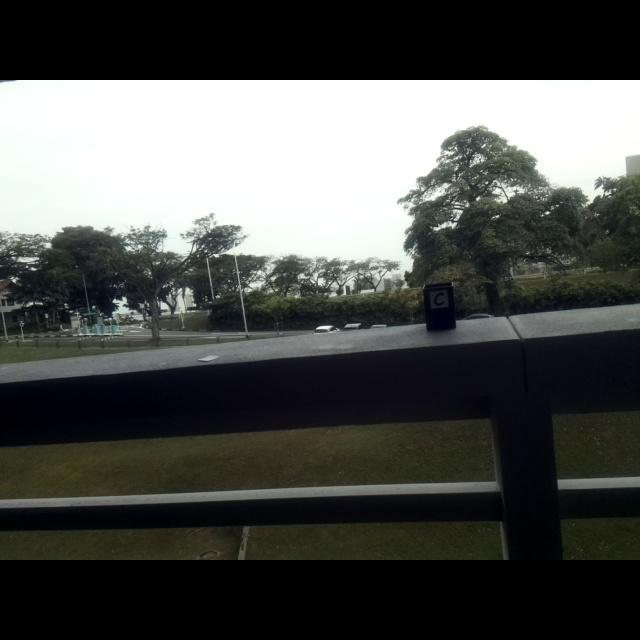C: (433, 292, 445, 306)
